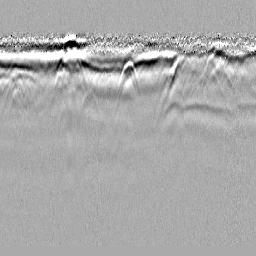cavity: (116, 57, 140, 102)
